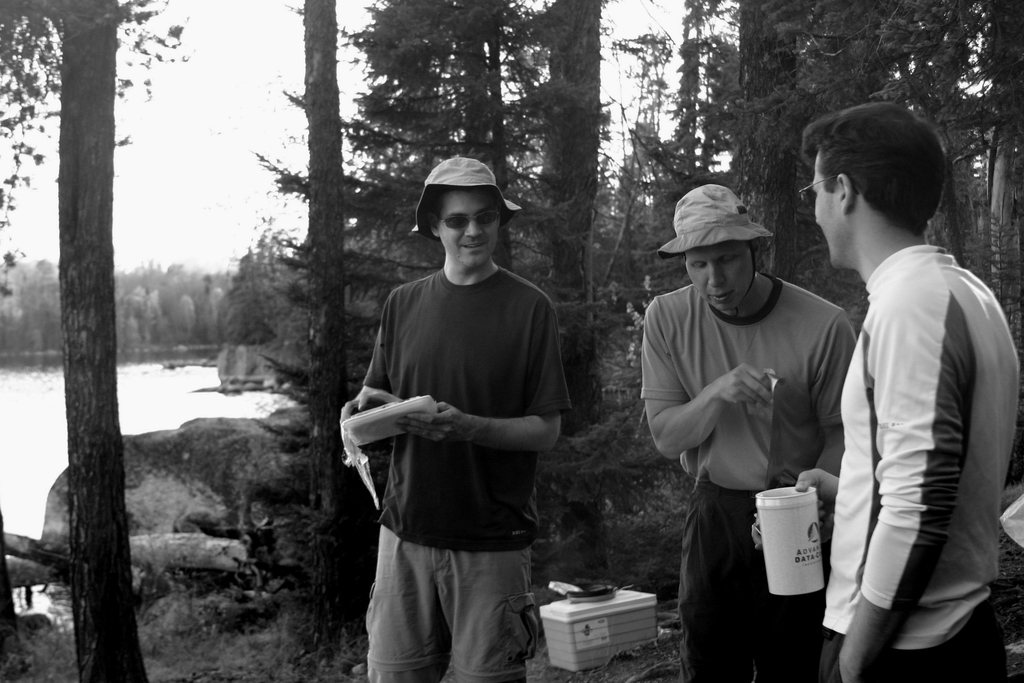Tree: (37, 30, 1024, 609), (0, 262, 238, 356)
